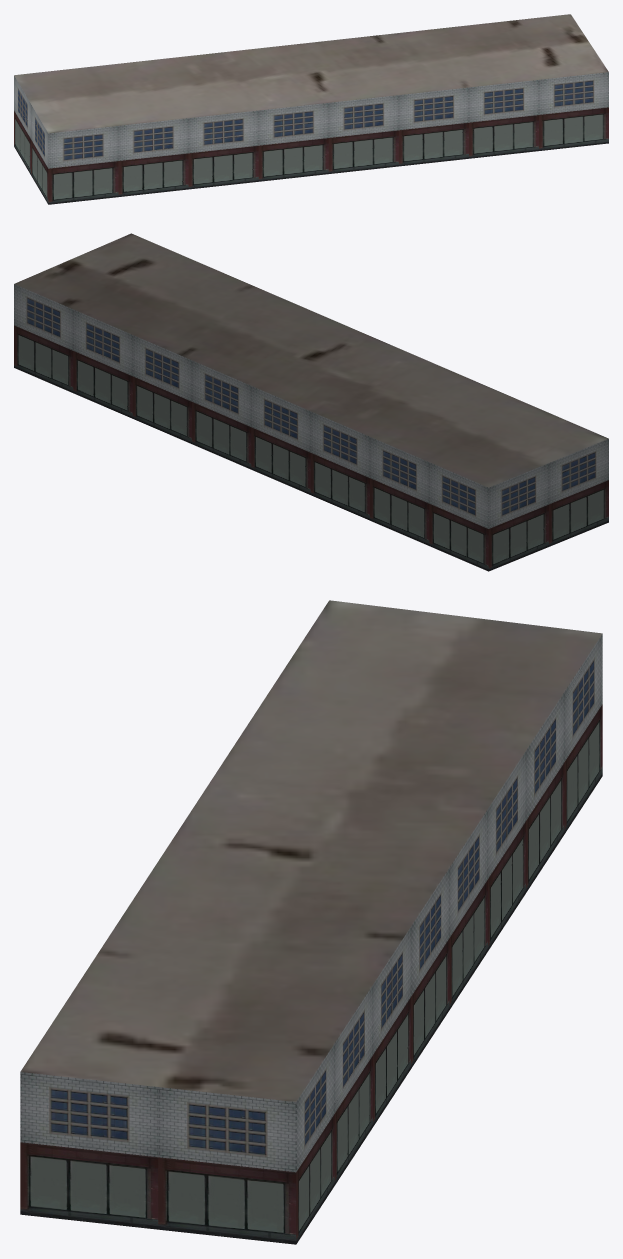
File: T_1T12A4NUAA.dae
3 renders of one model, top to bottom at view 1: azimuth 30°, elevation 25°; view 2: azimuth 150°, elevation 25°; view 3: azimuth 270°, elevation 25°, orthographic. The views are drawn at different scales.
Parts seen in each view (by area): view 1: SketchUp (×5); view 2: SketchUp (×5); view 3: SketchUp (×5).
Boxes of the visible parts, x1,y1,x2,y2 form: SketchUp (×5): (14,14,608,204); SketchUp (×5): (14,233,608,571); SketchUp (×5): (20,600,602,1244).
Size of the model in its own units: 49.04 by 24.06 by 6.5.
3 materials, 3 textured.
